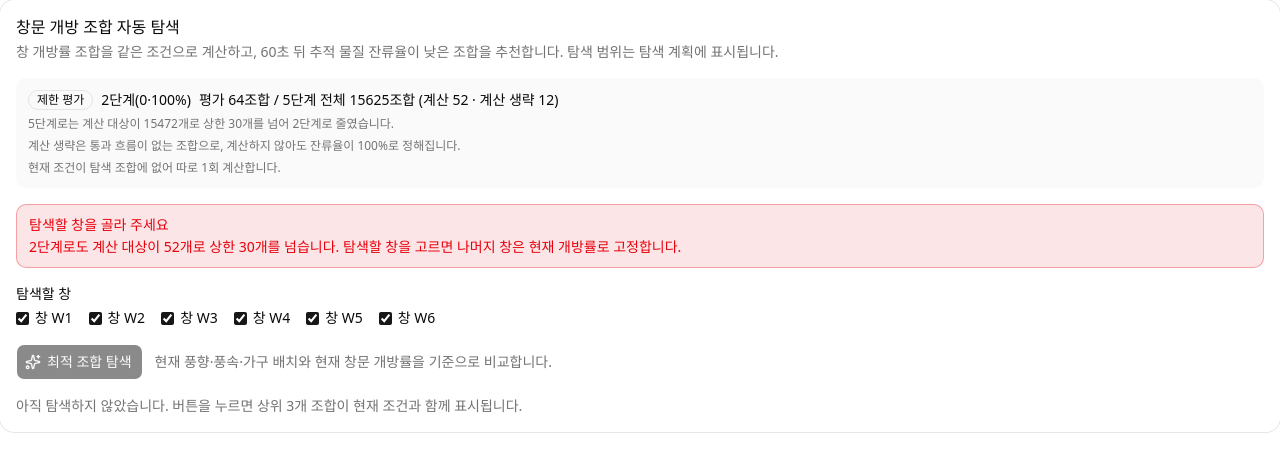
Test: 창 6개: 2단계로도 상한을 넘어 탐색할 창을 고르게 하고, 고르면 나머지를 현재 개방률로 고정한다
Check: the message with test id "selection-required" shows "탐색할 창을 골라 주세요", box [29,215,169,234]
Check: the message with test id "selection-required" shows "상한 30개를 넘습니다", box [29,237,339,256]
Click the checkbox labelled "창 W6" at [385, 318], box [379,312,392,324]
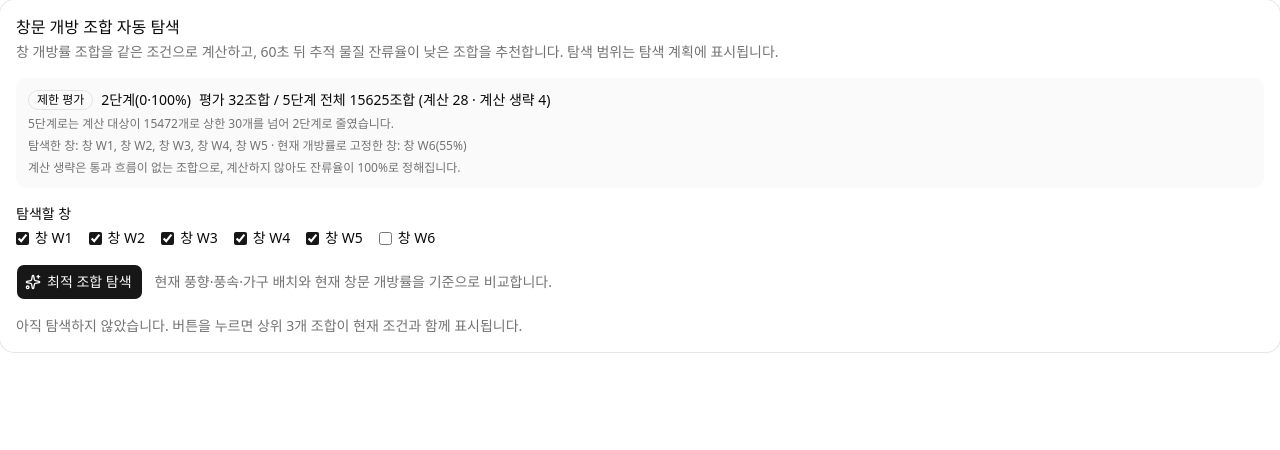
Check: the message with test id "selection-required" is gone
Check: the button "최적 조합 탐색" is enabled, box [16,264,143,300]
Check: the text with test id "search-plan-fixed" reads "탐색한 창: 창 W1, 창 W2, 창 W3, 창 W4, 창 W5 · 현재 개방률로 고정한 창: 창 W6(55%)", box [28,137,466,154]
모두 다시 고르면 처음 상태로 돌아가 창을 골라야 한다.
Click the checkbox labelled "창 W6" at [385, 238], box [379,232,392,244]
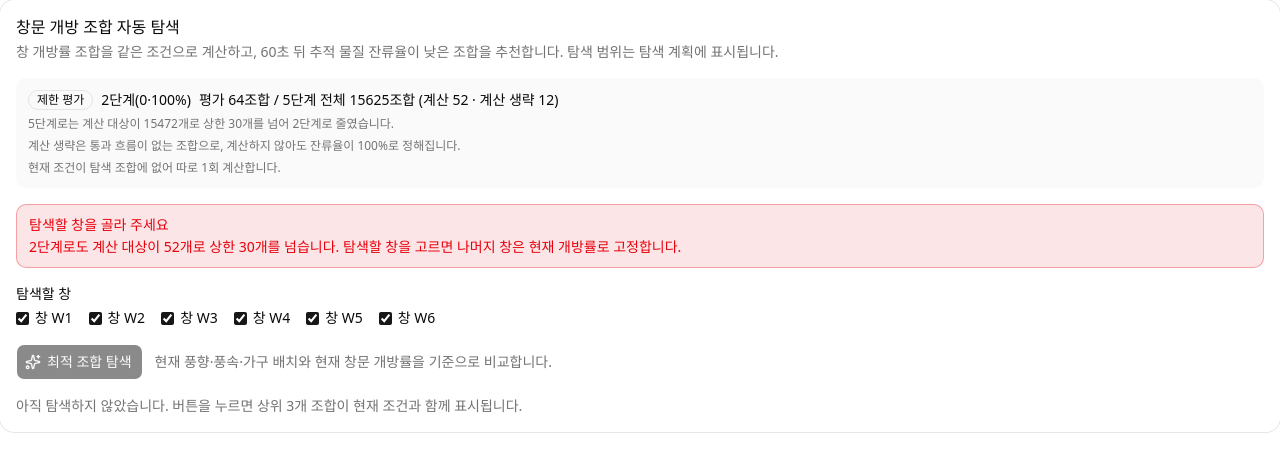
Check: the message "탐색할 창을 골라 주세요 2단계로도 계산 대상이 52개로 상한 30개를 넘습니다. 탐색할 창을 고르면 나머지 창은 현재 개방률로 고정합니다." is shown, box [16,204,1264,268]
Check: the button "최적 조합 탐색" is disabled, box [16,344,143,380]
